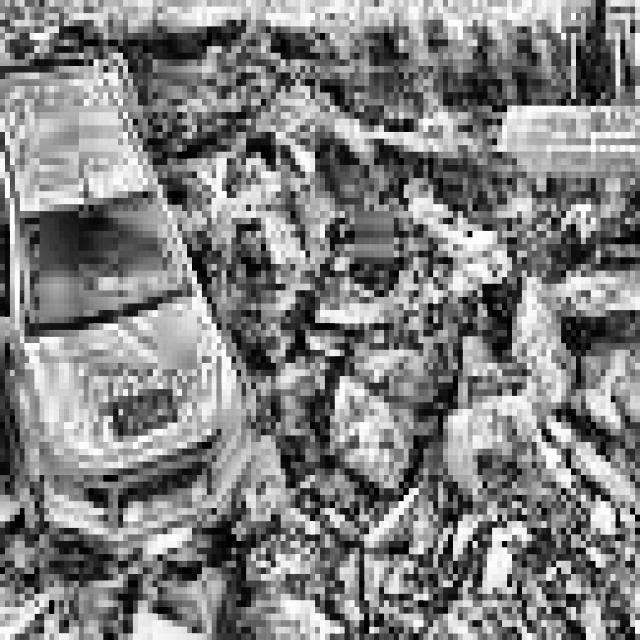light_vehicle: (0, 40, 261, 574)
